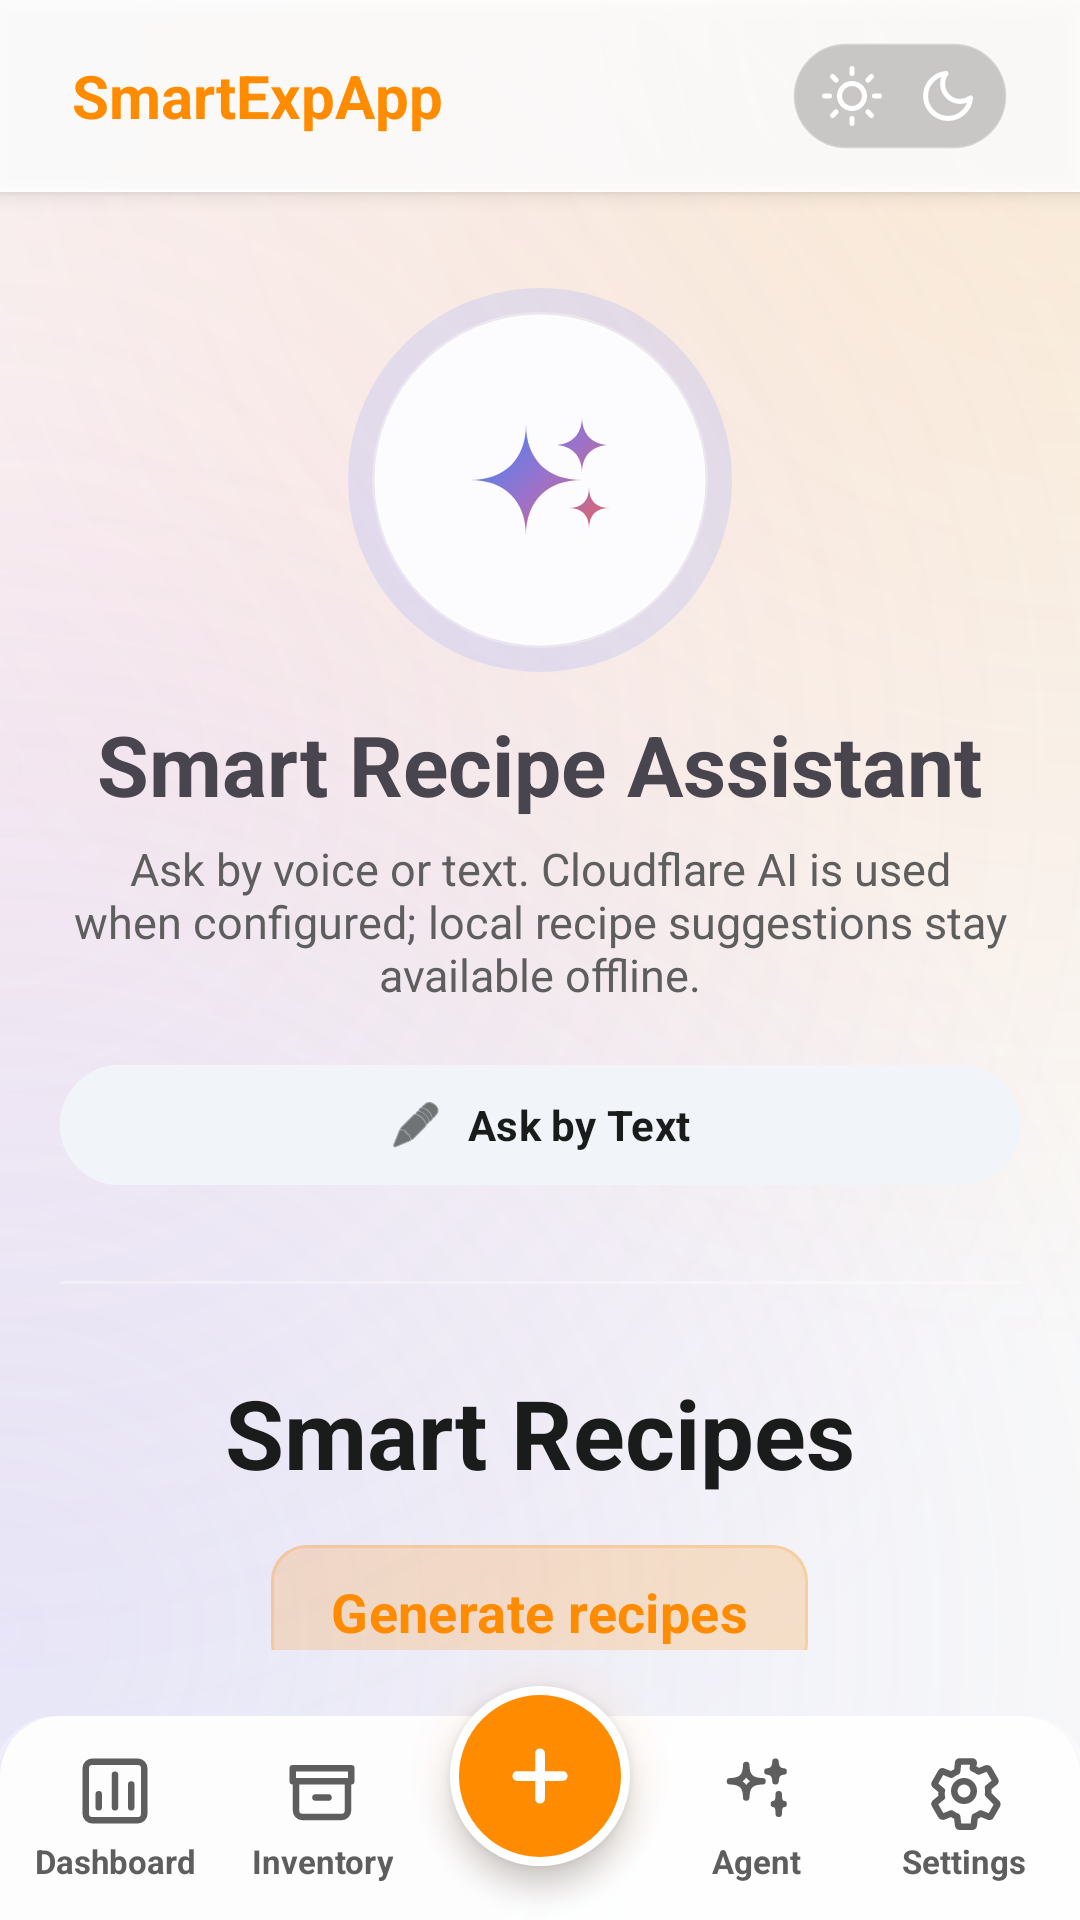

Where icons sit on this 1080 × 1920 app screen, as (x1, y1, x2, y2):
Add Product: (512, 1748, 568, 1804)
ai sparkles: (474, 421, 607, 533)
theme moon: (923, 71, 973, 121)
theme sun: (822, 66, 882, 126)
